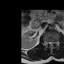CCS_normal: (50, 40, 52, 47)
LFS_normal: (54, 40, 56, 45)
LLS_normal: (52, 40, 54, 46)
RFS_normal: (47, 40, 49, 45)
RLS_normal: (49, 40, 50, 45)
